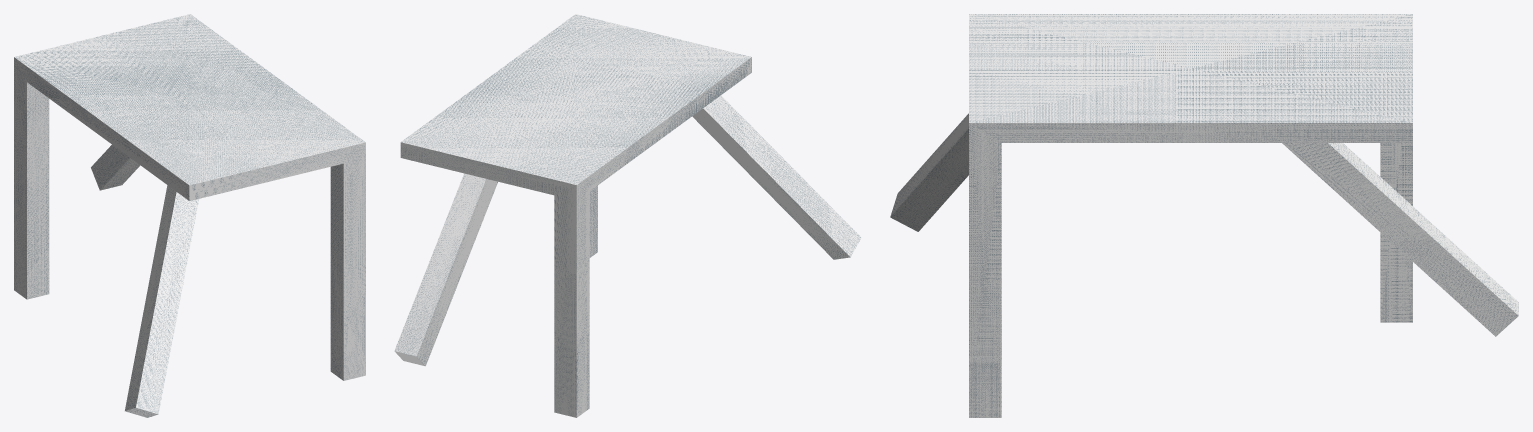
Rendered from brokentable.fbx.
The picture shows the model from 3 angles, left to right: view 1: azimuth 30°, elevation 25°; view 2: azimuth 150°, elevation 25°; view 3: azimuth 270°, elevation 25°; orthographic projection. The views are drawn at different scales.
Parts seen in each view (by area): view 1: Model; view 2: Model; view 3: Model.
Boxes of the visible parts, left/top/right/bottom form: Model: left=14, top=14, right=365, bottom=417; Model: left=394, top=14, right=861, bottom=417; Model: left=890, top=14, right=1518, bottom=417.
Size of the model in its own units: 5401 by 4659 by 8999.
